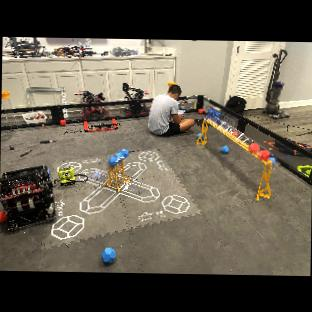Goal: (201, 113, 284, 172)
Loader: (1, 89, 21, 135)
Low_goal: (90, 168, 147, 196)
Med_goal: (88, 149, 135, 182)
Parking-R: (83, 118, 122, 133)
Robot: (0, 176, 58, 225), (74, 91, 113, 118), (121, 83, 150, 116)
V5_BLUE: (100, 246, 117, 263), (219, 144, 229, 154), (195, 132, 205, 140)
V5_RED: (58, 118, 66, 128), (0, 210, 5, 223), (198, 106, 203, 115)
blueingoal: (266, 154, 276, 165), (106, 157, 118, 165), (114, 154, 123, 160), (121, 150, 128, 157)
redingoal: (246, 140, 258, 153), (258, 148, 271, 160), (231, 129, 238, 136)
